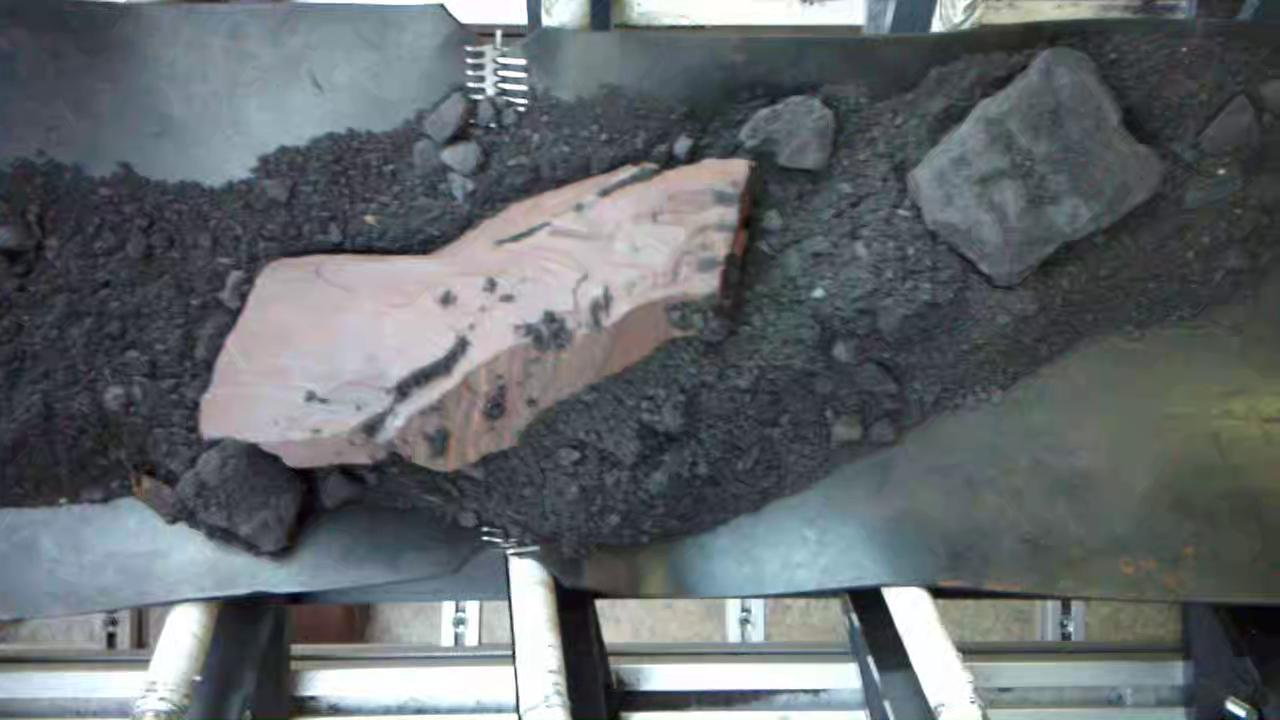conveyor: (5, 37, 1265, 575)
